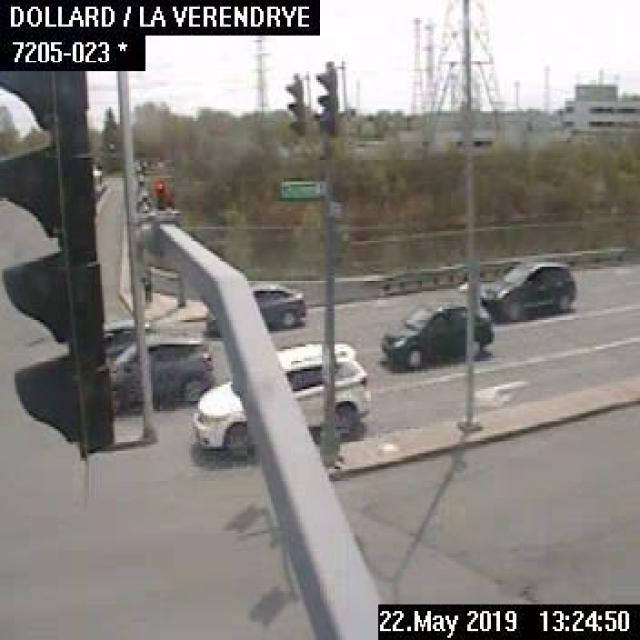vehicle: (190, 338, 368, 460), (105, 330, 212, 410), (376, 296, 497, 366), (475, 258, 575, 324), (202, 280, 306, 335)
